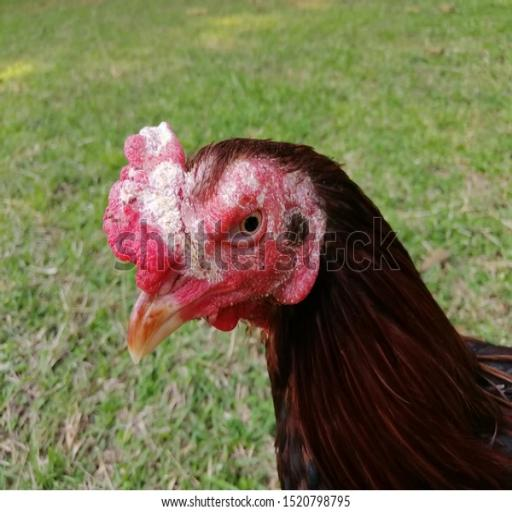disease: (110, 115, 242, 286), (248, 146, 330, 280)
